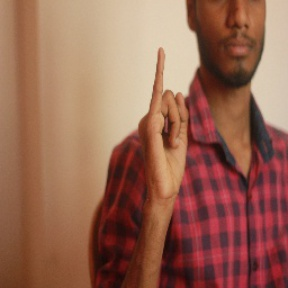I: (140, 46, 191, 190)
